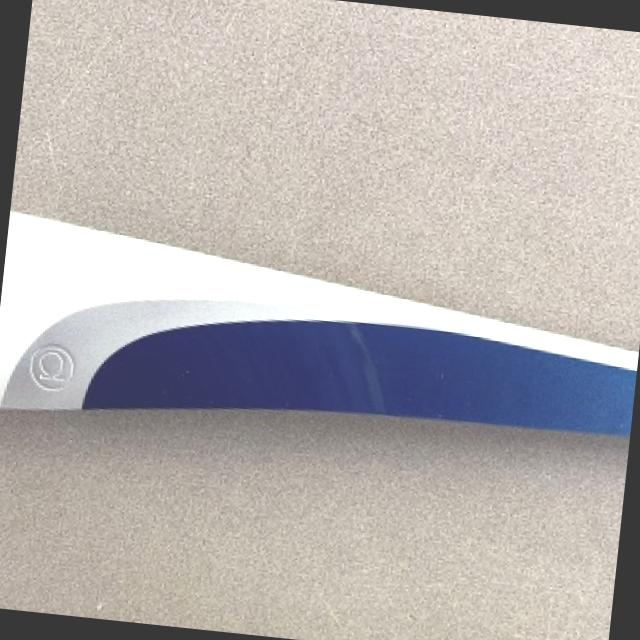healthy: (0, 210, 638, 434)
